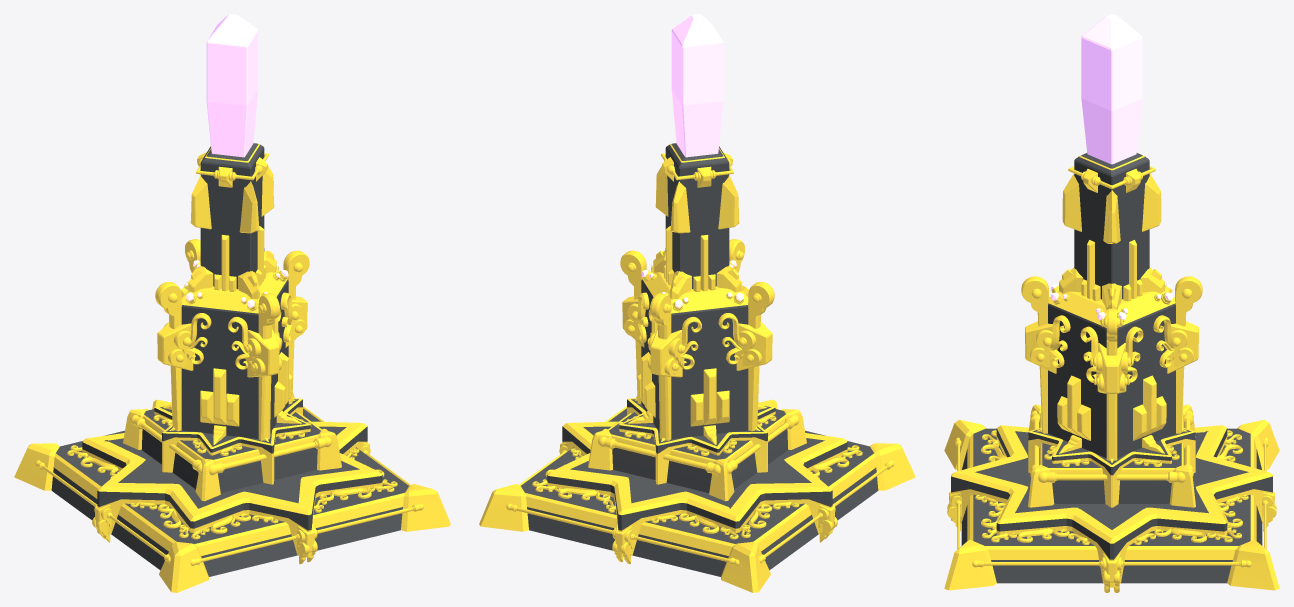
File: religious_guardian_minitower.fbx
The picture shows the model from 3 angles, left to right: view 1: azimuth 30°, elevation 25°; view 2: azimuth 150°, elevation 25°; view 3: azimuth 270°, elevation 25°; orthographic projection. The views are drawn at different scales.
Visible parts, largest first — view 1: tower_2, base, star_top (×2), star (×2), staffs, base12, base_fence (×2), swirls (×2), base11, elbows_high, elbows, swirls1 (×2) (+3 smaller); view 2: tower_2, base, star_top (×2), star (×2), staffs, base1, base_fence (×2), swirls (×2), base10, elbows_high, elbows, swirls1 (×2) (+3 smaller); view 3: tower_2, base, star_top (×2), star (×2), staffs, swirls (×3), base11, base10, elbows_high, base_fence (×2), swirls1 (×2), elbows (+3 smaller).
Part boxes in pixels (x1,y1,x2,y2): tower_2: [181, 14, 288, 438]; base: [14, 392, 450, 592]; star_top (×2): [82, 398, 382, 521]; star (×2): [82, 399, 382, 557]; staffs: [155, 239, 309, 440]; base12: [172, 440, 263, 501]; base_fence (×2): [42, 406, 413, 562]; swirls (×2): [67, 450, 394, 539]; base11: [274, 412, 341, 479]; elbows_high: [190, 166, 274, 233]; elbows: [157, 296, 307, 377]; swirls1 (×2): [188, 292, 292, 369]; tower_2: [641, 14, 748, 438]; base: [479, 395, 915, 592]; star_top (×2): [547, 398, 847, 521]; star (×2): [547, 399, 847, 557]; staffs: [620, 239, 774, 440]; base1: [666, 440, 757, 501]; base_fence (×2): [516, 406, 887, 562]; swirls (×2): [535, 450, 862, 539]; base10: [588, 412, 655, 479]; elbows_high: [655, 166, 739, 233]; elbows: [622, 296, 772, 377]; swirls1 (×2): [637, 292, 741, 369]; tower_2: [1048, 14, 1175, 458]; base: [944, 419, 1279, 590]; star_top (×2): [951, 425, 1272, 543]; star (×2): [951, 428, 1272, 587]; staffs: [1021, 276, 1202, 460]; swirls (×3): [975, 434, 1248, 544]; base11: [1028, 443, 1105, 507]; base10: [1118, 443, 1195, 507]; elbows_high: [1062, 174, 1161, 243]; base_fence (×2): [957, 419, 1266, 565]; swirls1 (×2): [1049, 315, 1174, 382]; elbows: [1025, 321, 1198, 393].
Size of the model in its own units: 24.79 by 41.85 by 24.79.
